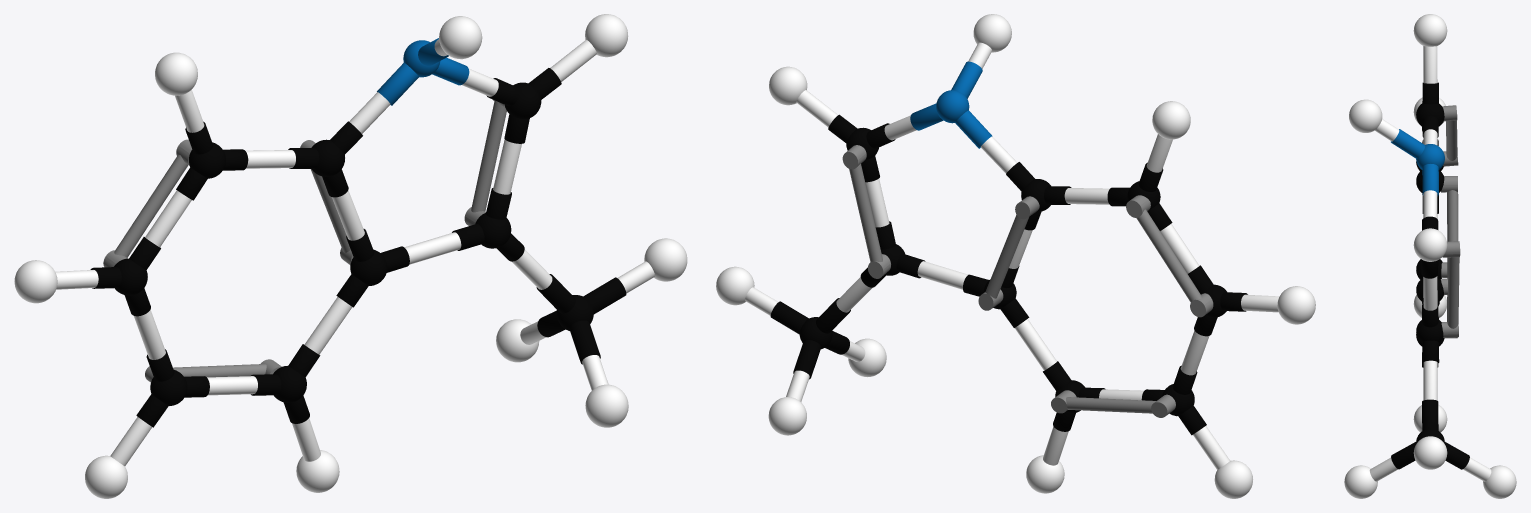
File: Scatol.dae
3 views of the same model, side by side, from view 1: azimuth 30°, elevation 25°; view 2: azimuth 150°, elevation 25°; view 3: azimuth 270°, elevation 25° (orthographic). The views are drawn at different scales.
Parts seen in each view (by area): view 1: Liaison_double, Liaison_double_003, Hydrogène_003, Hydrogène_006, Hydrogène_000, Hydrogène_004, Hydrogène_001, Hydrogène_005, Hydrogène_007, Hydrogène_002, Liaison_double_001, Hydrogène_008 (+28 smaller); view 2: Liaison_double, Liaison_double_003, Liaison_double_001, Liaison_double_002, Hydrogène_000, Hydrogène_003, Hydrogène_008, Hydrogène_001, Hydrogène_005, Hydrogène_007, Hydrogène_004, Hydrogène_002 (+13 smaller); view 3: Liaison_double_003, Liaison_double_002, Hydrogène_007, Hydrogène_005, Hydrogène_004, Hydrogène_003, Hydrogène_006, Hydrogène_008, Liaison_double, LiaisonSimple_037, LiaisonSimple_027, Valence2_018 (+24 smaller).
Boxes of the visible parts, bbox=[...] form: Liaison_double: bbox=[103, 139, 192, 267]; Liaison_double_003: bbox=[464, 99, 506, 225]; Hydrogène_003: bbox=[155, 52, 197, 95]; Hydrogène_006: bbox=[585, 384, 628, 427]; Hydrogène_000: bbox=[14, 260, 57, 303]; Hydrogène_004: bbox=[439, 16, 482, 59]; Hydrogène_001: bbox=[85, 455, 127, 498]; Hydrogène_005: bbox=[585, 14, 628, 57]; Hydrogène_007: bbox=[644, 238, 687, 281]; Hydrogène_002: bbox=[296, 450, 339, 492]; Liaison_double_001: bbox=[145, 359, 281, 382]; Hydrogène_008: bbox=[496, 319, 539, 362]; Liaison_double: bbox=[1126, 195, 1213, 317]; Liaison_double_003: bbox=[842, 145, 890, 278]; Liaison_double_001: bbox=[1051, 390, 1175, 417]; Liaison_double_002: bbox=[978, 196, 1039, 310]; Hydrogène_000: bbox=[1277, 286, 1315, 324]; Hydrogène_003: bbox=[1152, 101, 1190, 139]; Hydrogène_008: bbox=[768, 397, 806, 435]; Hydrogène_001: bbox=[1214, 460, 1252, 498]; Hydrogène_005: bbox=[769, 66, 807, 105]; Hydrogène_007: bbox=[716, 266, 754, 305]; Hydrogène_004: bbox=[973, 14, 1011, 52]; Hydrogène_002: bbox=[1026, 455, 1064, 493]; Liaison_double_003: bbox=[1441, 241, 1460, 337]; Liaison_double_002: bbox=[1441, 176, 1458, 295]; Hydrogène_007: bbox=[1413, 436, 1447, 469]; Hydrogène_005: bbox=[1413, 228, 1447, 261]; Hydrogène_004: bbox=[1349, 99, 1382, 132]; Hydrogène_003: bbox=[1413, 14, 1447, 46]; Hydrogène_006: bbox=[1344, 465, 1377, 498]; Hydrogène_008: bbox=[1483, 465, 1516, 498]; Liaison_double: bbox=[1442, 105, 1458, 166]; LiaisonSimple_037: bbox=[1423, 360, 1437, 400]; LiaisonSimple_027: bbox=[1423, 46, 1437, 83]; Valence2_018: bbox=[1391, 129, 1425, 158].
Bounding box in the file's own units: 7.65 × 2.21 × 5.25.
